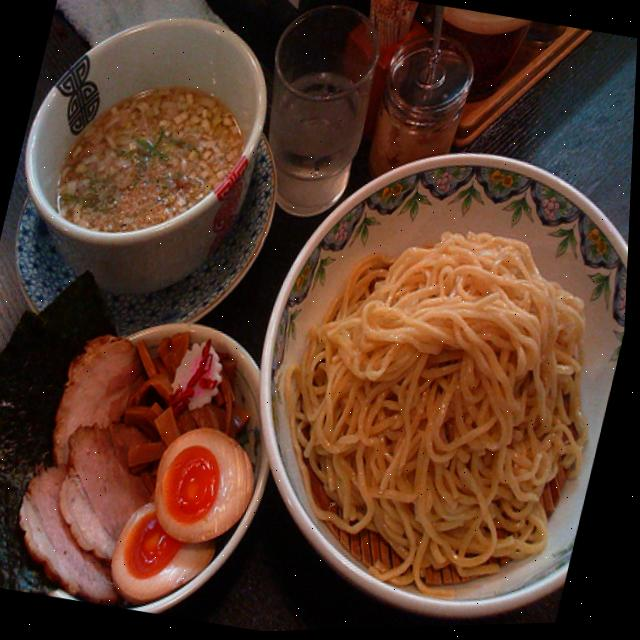面条主食: (0, 45, 638, 640)
